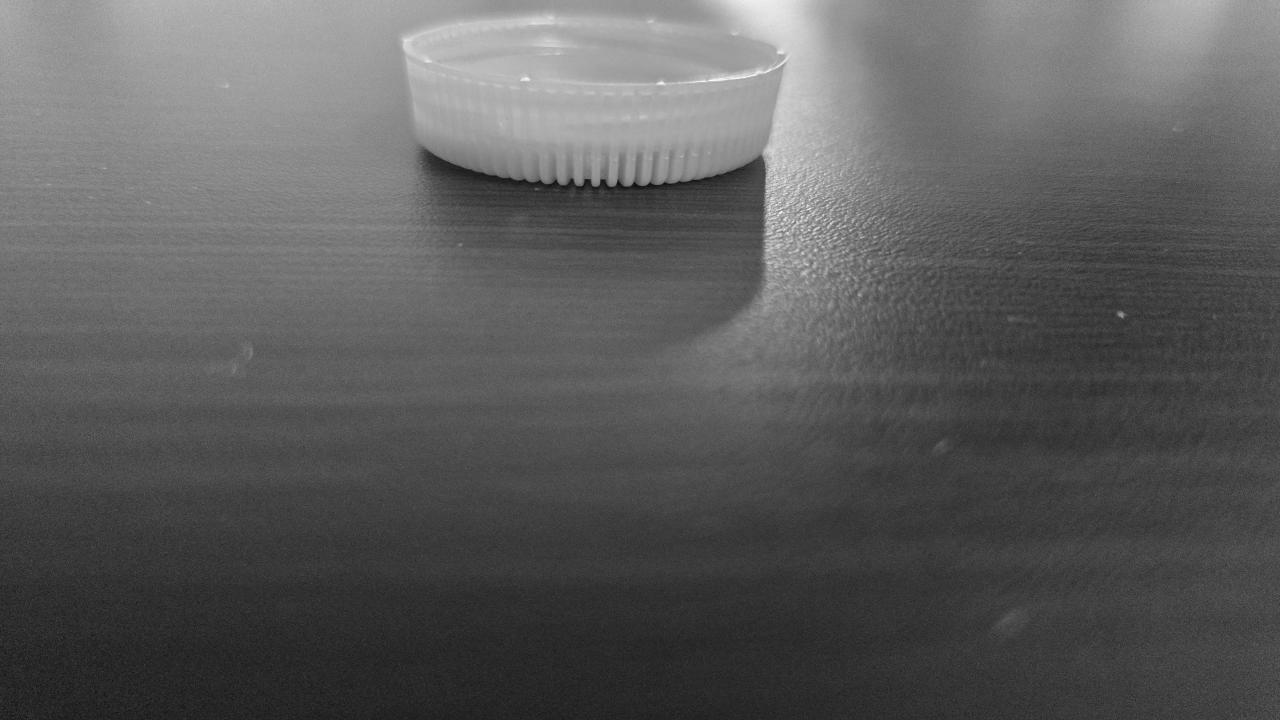bottle_cap: (393, 8, 799, 196)
